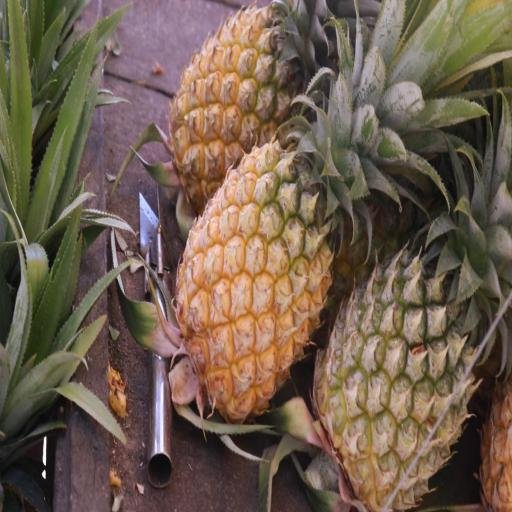Pineapple - v8 v1: (170, 104, 342, 418), (169, 0, 324, 223)
